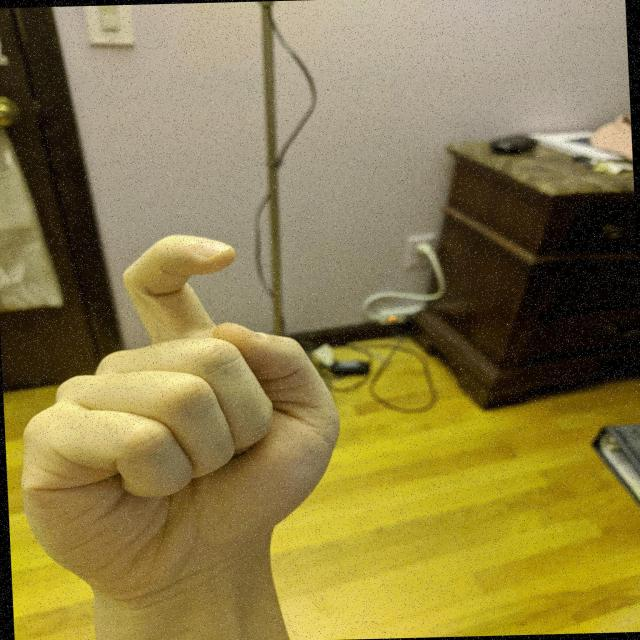X: (2, 223, 356, 600)
